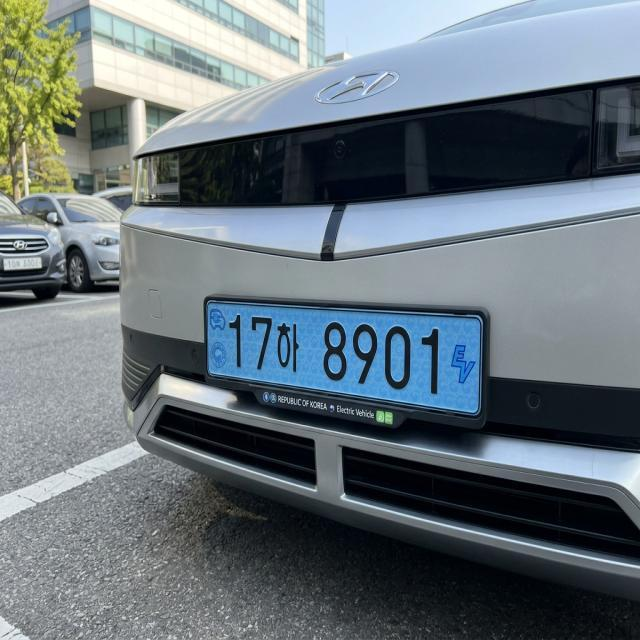car: (192, 270, 513, 450)
carev: (441, 310, 483, 411), (205, 296, 231, 381)
